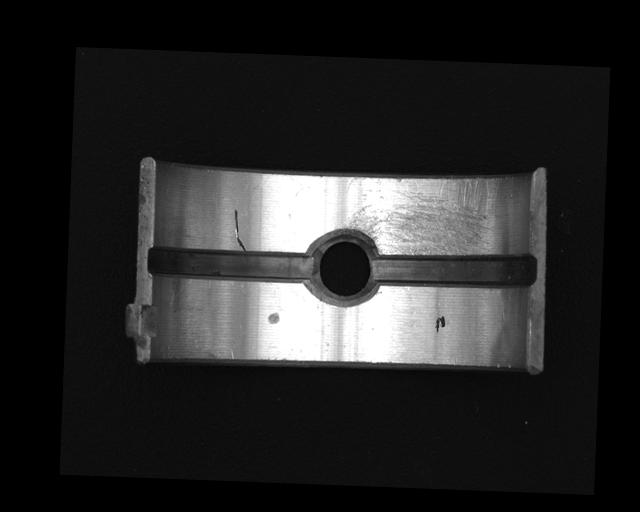blot: (434, 314, 446, 332)
bruise: (267, 311, 279, 325)
gap: (370, 249, 537, 291), (145, 244, 315, 285)
hole: (306, 226, 380, 307)
nick: (231, 209, 247, 253)
scratch: (343, 171, 498, 260)
